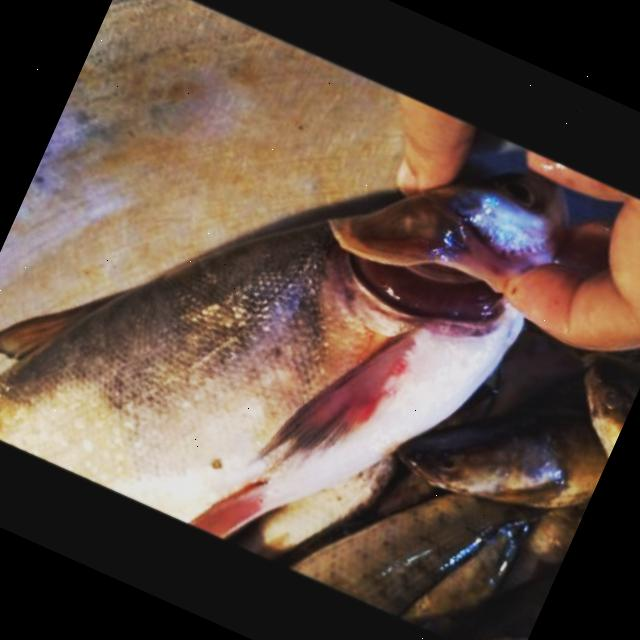Flavobacterium -Bacterial Gill Disease-: (0, 172, 566, 536), (0, 185, 556, 541)
